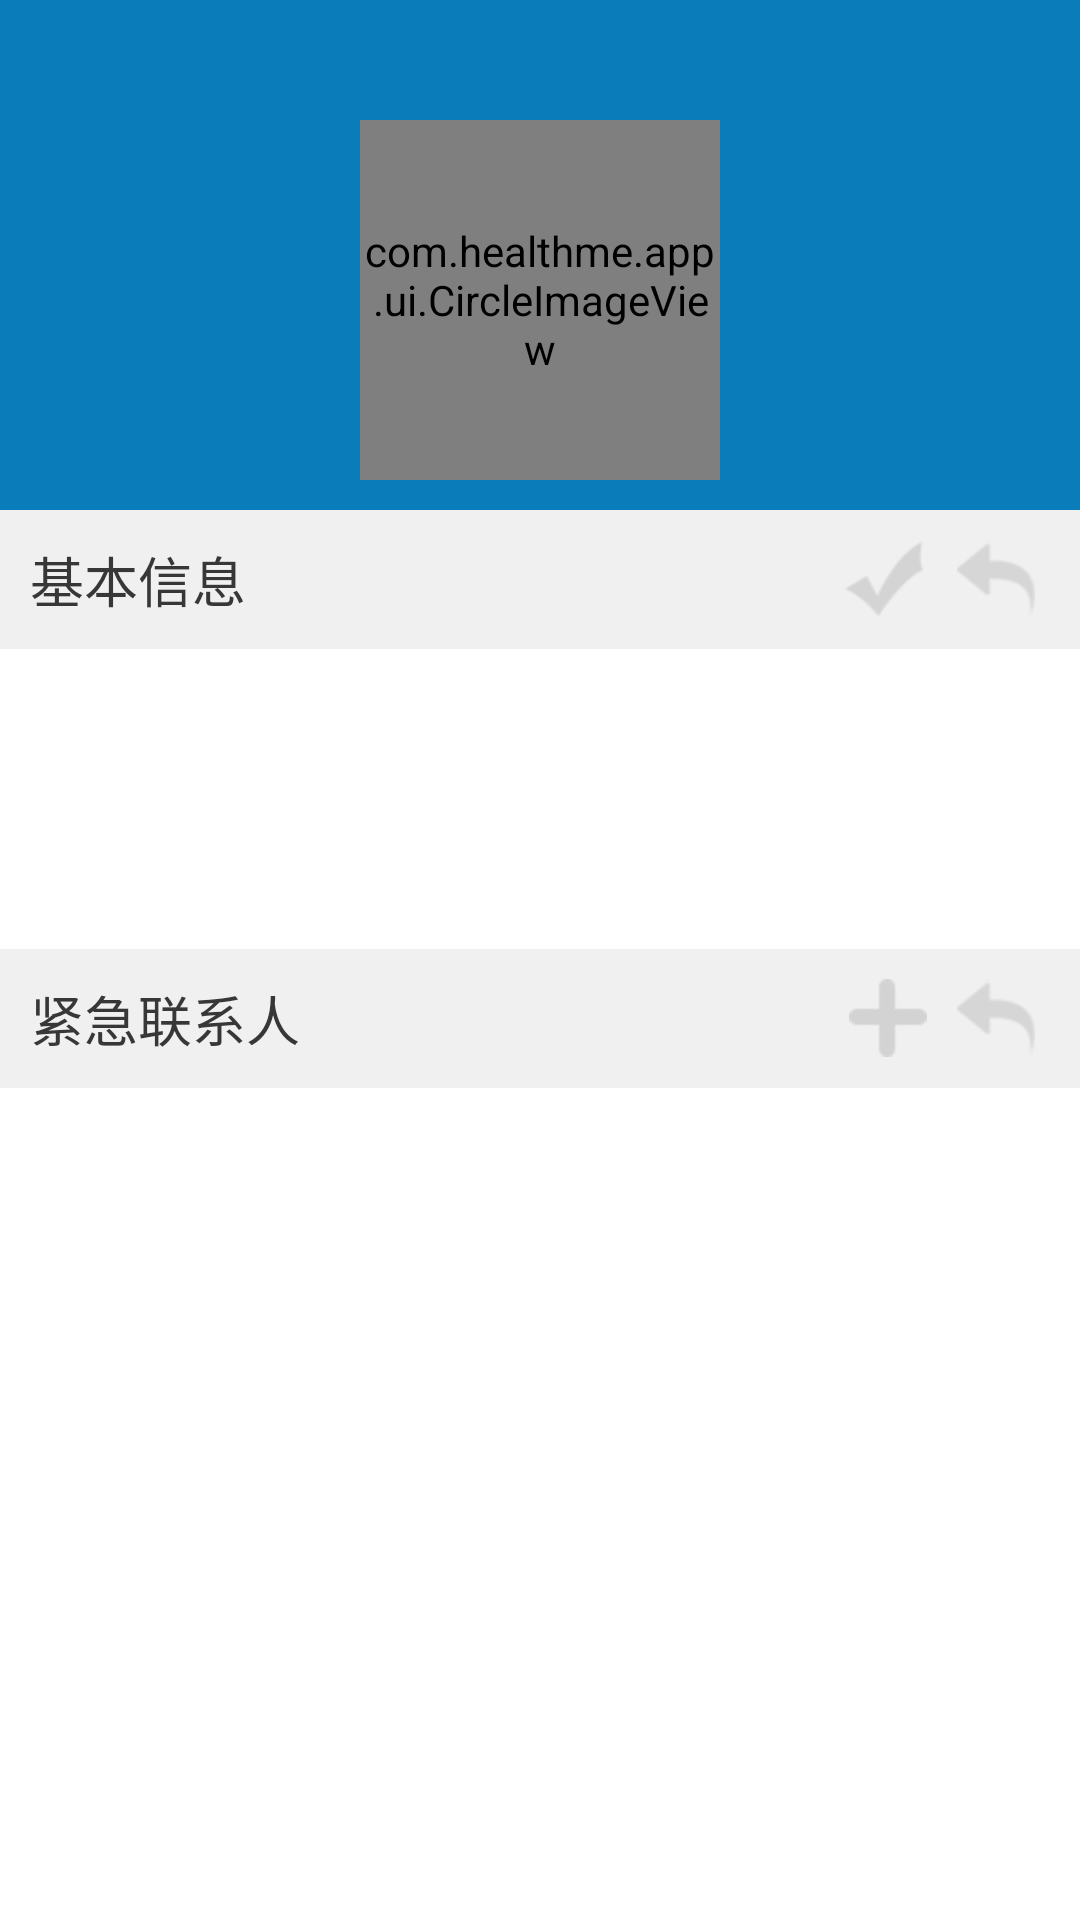

Named icons in this screenshot (1080x1920) and their bounding boxes, [x1,y1,x2,y2]:
submit info: [848,545,921,613]
undo: [959,547,1033,599], [959,985,1033,1038]
